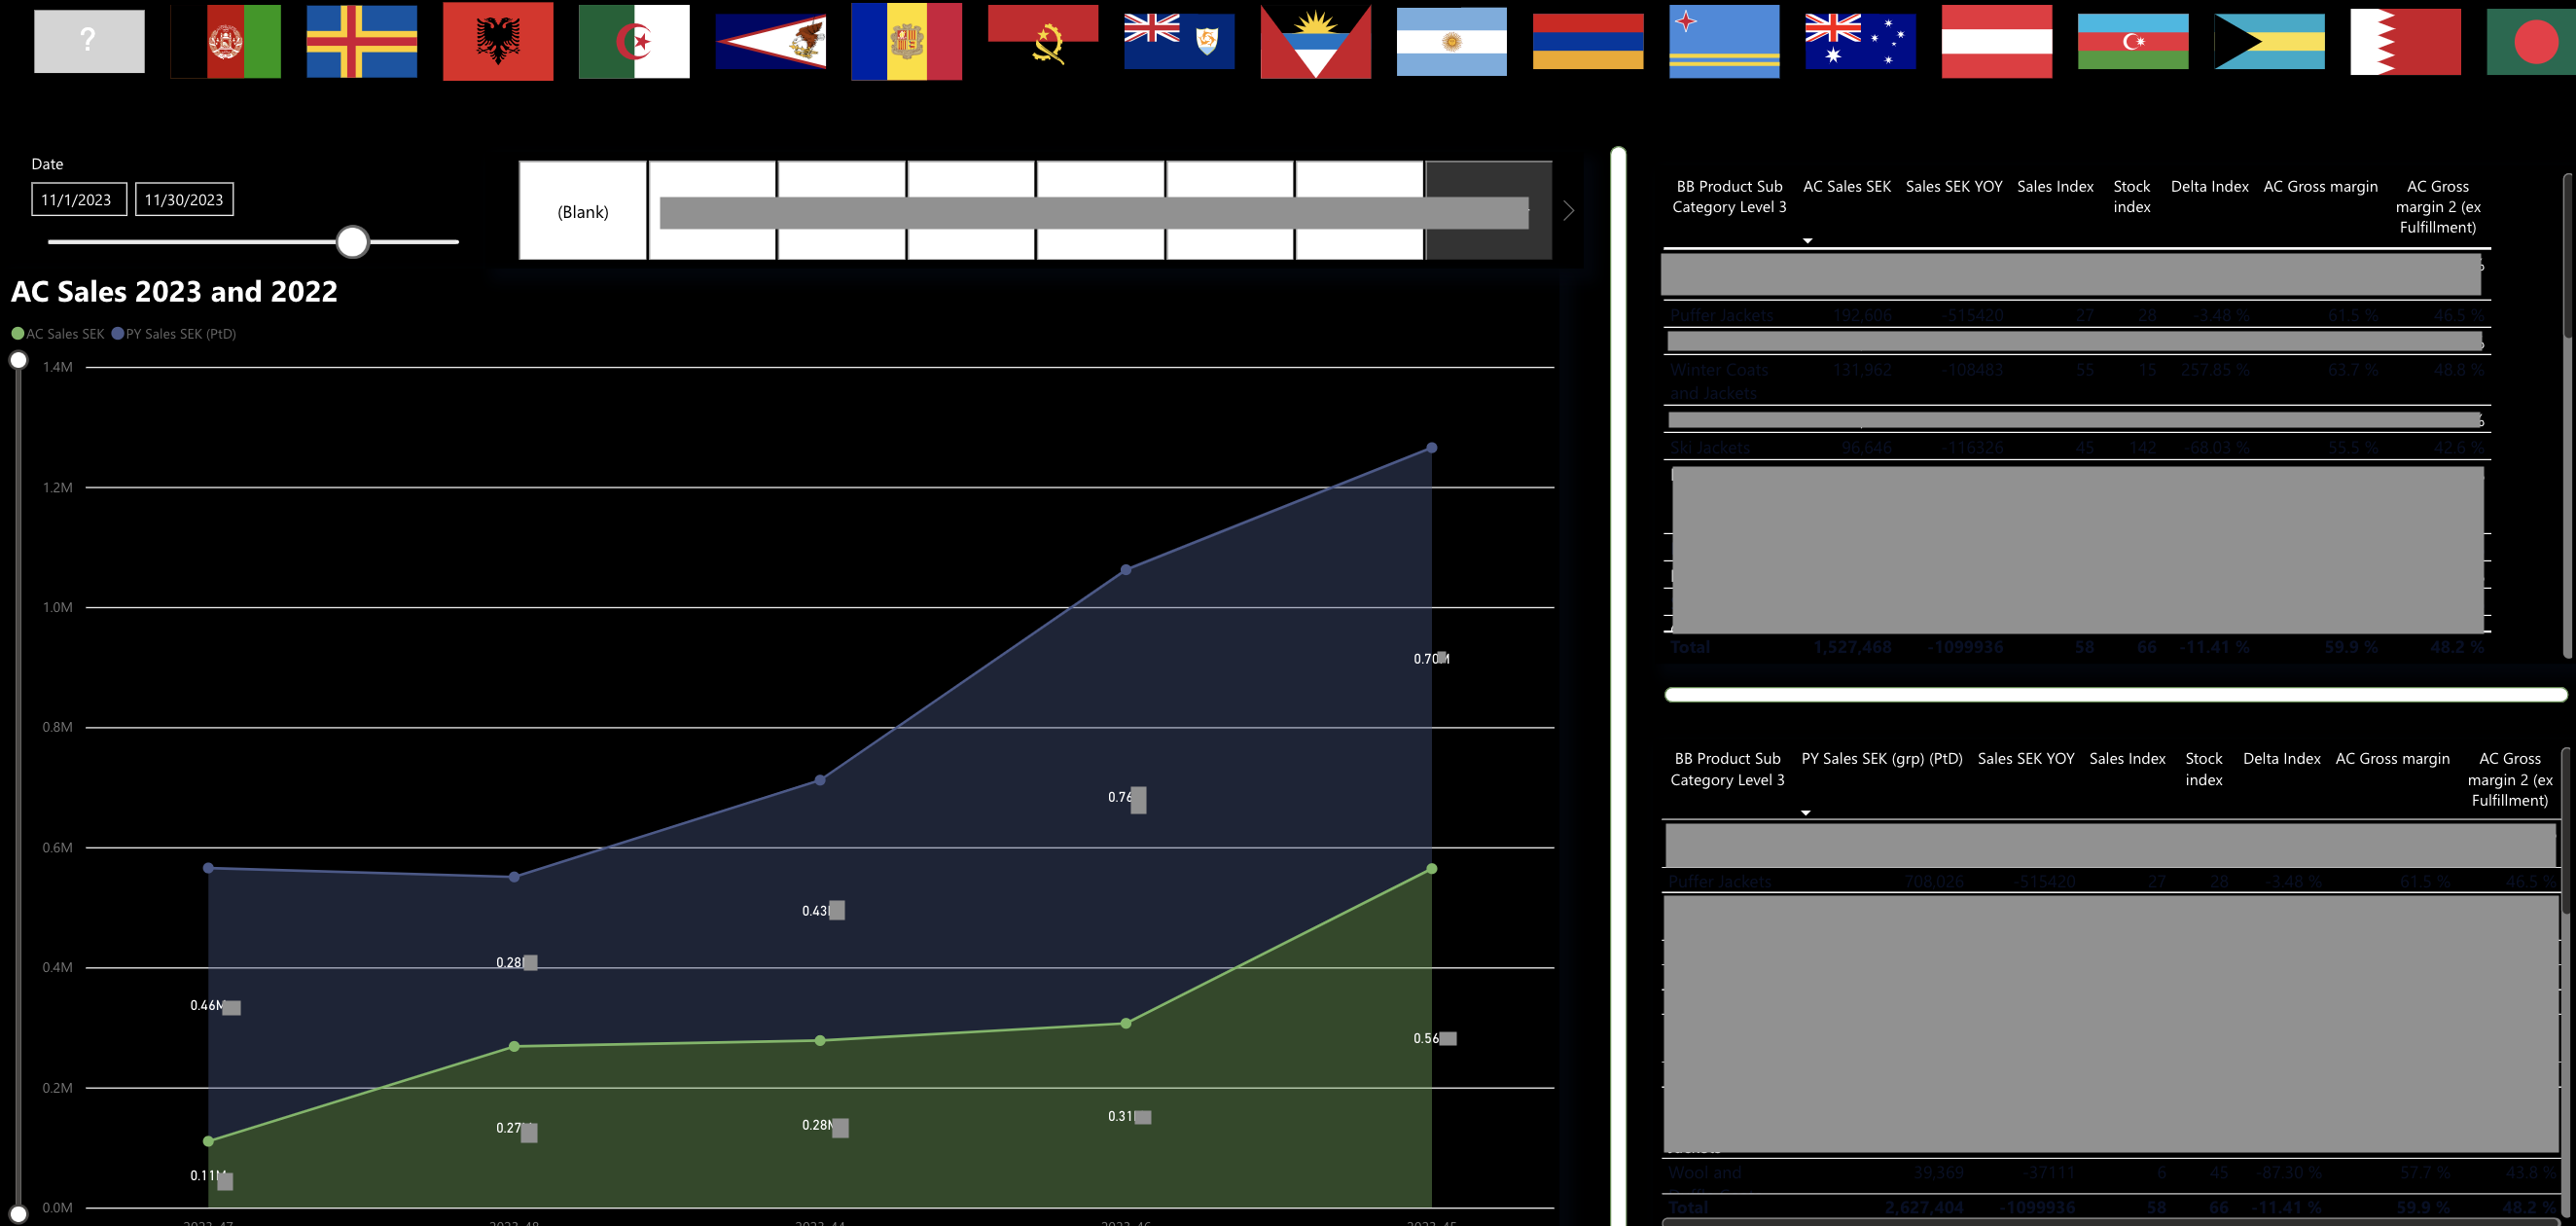

Layout of this report page (visuals, bound fields, positions):
{"tool":"powerbi","page":{"name":"Page 1","canvas":[2000,1000],"ordinal":0},"visuals":[{"type":"actionButton","box":[0,0,100,40],"z":0},{"type":"stackedAreaChart","title":"AC Sales 2023 and 2022","fields":{"Category":["2_Dates.Date Hierarchy.Year-Week"],"Y":["1_Sales.AC Sales SEK","1_Sales.PY Sales SEK (PtD)"]},"box":[0,245.3,1199.5,754.7],"z":1000},{"type":"slicer","fields":{"Values":["2_Dates.Date"]},"box":[8.8,151,363.6,93.8],"z":2000},{"type":"tableEx","fields":{"Values":["2_Article_info.BB Product Sub Category Level 3","1_Group_measures.PY Sales SEK (grp) (PtD)","1_AOV.Sales SEK YOY","1_Sales.Sales Index","1_Inventory.Stock index","1_AOV.Delta Index","1_Gross_margin.AC Gross margin","1_Gross_margin.AC Gross margin 2 (ex Fulfillment)"]},"box":[1270.9,609.2,712.9,381.4],"z":3000},{"type":"enlightenWorldFlagsE887F52F76244B1C927F80CF9724AEF6","fields":{"code":["2_Market_&_Countries.Market Hierarchy.Country name"]},"box":[8.6,0,1991.4,141.6],"z":4000},{"type":"tableEx","fields":{"Values":["2_Article_info.BB Product Sub Category Level 3","1_Sales.AC Sales SEK","1_AOV.Sales SEK YOY","1_Sales.Sales Index","1_Inventory.Stock index","1_AOV.Delta Index","1_Gross_margin.AC Gross margin","1_Gross_margin.AC Gross margin 2 (ex Fulfillment)"]},"box":[1272.2,165.8,712.9,384.1],"z":5000},{"type":"shape","box":[1280.3,568.7,696.8,12.1],"z":6000},{"type":"slicer","fields":{"Values":["2_Article_info.BB Product Main Category Level 1"]},"box":[371.9,155.2,846.1,89.9],"z":7000},{"type":"shape","box":[1239,151,13.2,838.7],"z":8000}]}

Visuals, with their boxes on the page's 2000x1000 design canvas (x1, y1, x2, y2). These are canvas units, not pixel positions in the 2576x1226 screenshot, which may show the page scaled, cropped or inside an application window:
actionButton: crop(0, 0, 100, 40)
"AC Sales 2023 and 2022" stackedAreaChart: crop(0, 245, 1200, 1000)
slicer - 2_Dates.Date: crop(9, 151, 372, 245)
tableEx - 2_Article_info.BB Product Sub Category Level 3 x 1_Group_measures.PY Sales SEK (grp) (PtD): crop(1271, 609, 1984, 991)
enlightenWorldFlagsE887F52F76244B1C927F80CF9724AEF6 - 2_Market_&_Countries.Market Hierarchy.Country name: crop(9, 0, 2000, 142)
tableEx - 2_Article_info.BB Product Sub Category Level 3 x 1_Sales.AC Sales SEK: crop(1272, 166, 1985, 550)
shape: crop(1280, 569, 1977, 581)
slicer - 2_Article_info.BB Product Main Category Level 1: crop(372, 155, 1218, 245)
shape: crop(1239, 151, 1252, 990)
